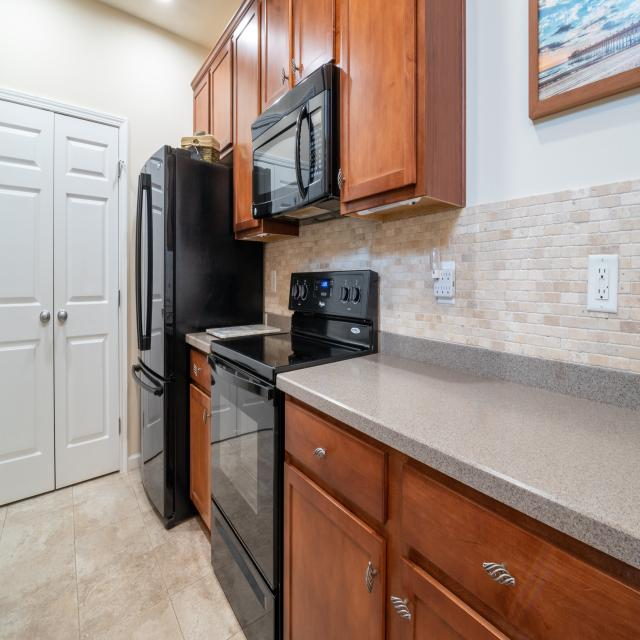Appliance_Fridge: (132, 146, 267, 529)
Appliance_Microwave: (251, 64, 340, 222)
Appliance_Oven: (210, 270, 378, 640)
Cabinet_Flat: (285, 398, 640, 640), (190, 351, 211, 393)
Cabinet_Shaker: (193, 0, 419, 232), (282, 463, 513, 640), (189, 384, 212, 529)
Countertop_Granite: (276, 354, 640, 570), (185, 332, 216, 357)
